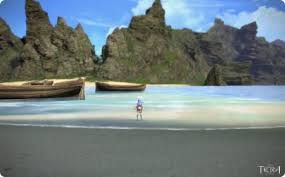mountain: (7, 7, 265, 84)
sea: (16, 86, 279, 172)
